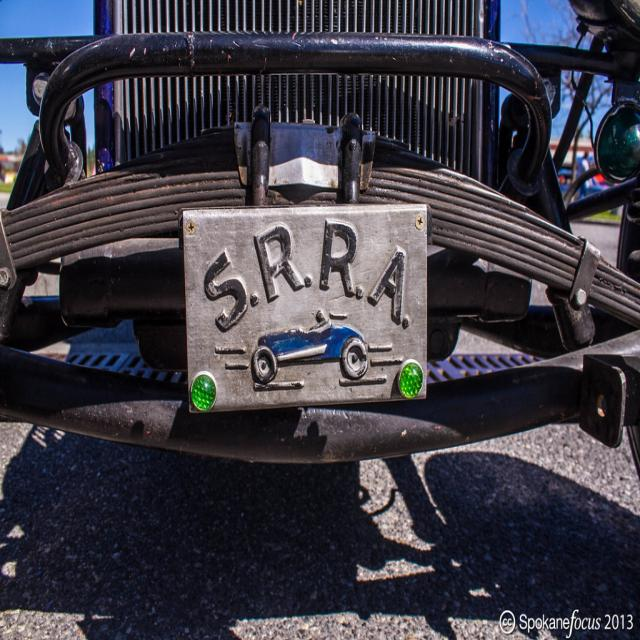car: (19, 51, 639, 552)
